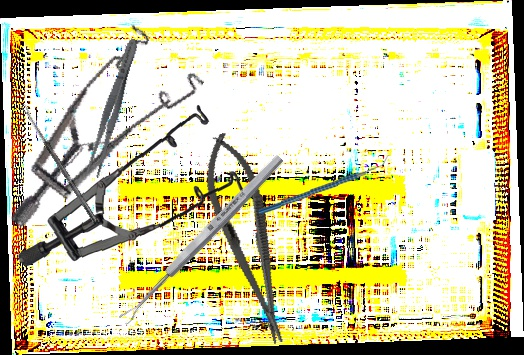Chopper: (256, 154, 392, 215)
Dressing Forceps: (83, 36, 143, 179)
Needle Holder: (191, 127, 304, 351)
Speculum: (9, 5, 214, 265), (16, 94, 248, 279)
Surgical Spoon: (117, 152, 286, 327), (20, 103, 100, 225)
